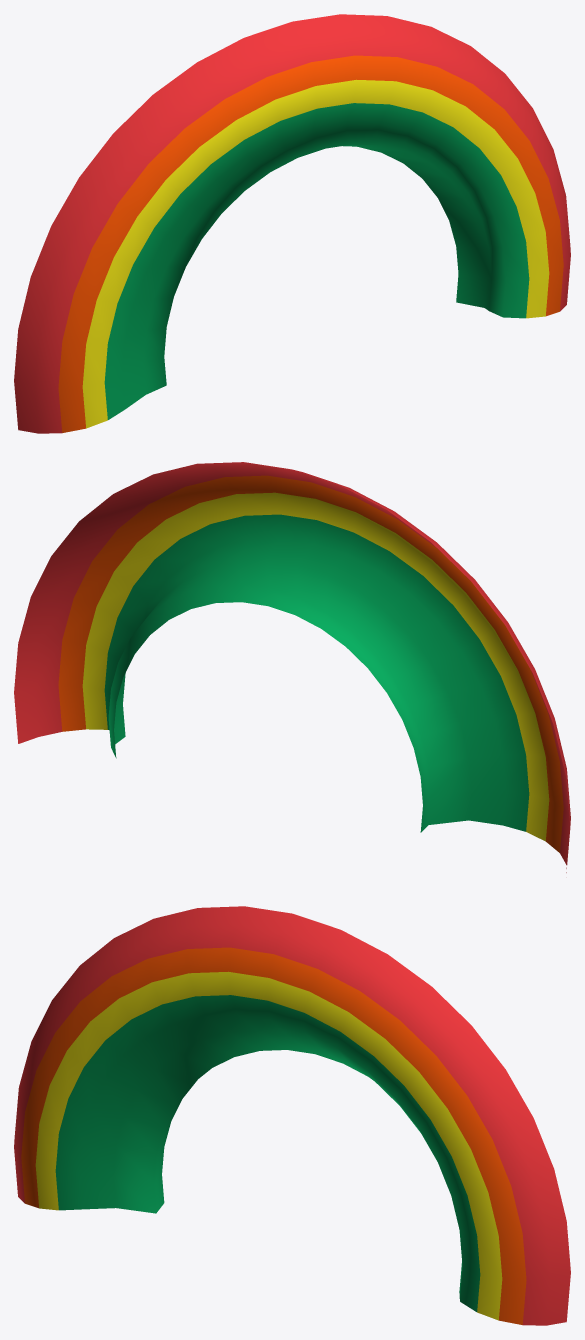
The model's file is verde.fbx.
3 renders of one model, top to bottom at view 1: azimuth 30°, elevation 25°; view 2: azimuth 150°, elevation 25°; view 3: azimuth 330°, elevation 25°, orthographic.
Parts seen in each view (by area): view 1: cinza; view 2: cinza; view 3: cinza.
Boxes of the visible parts, x1,y1,x2,y2 form: cinza: (14,14,570,433); cinza: (14,462,570,872); cinza: (14,906,570,1325).
Size of the model in its own units: 6.08 by 3.57 by 0.5824.
